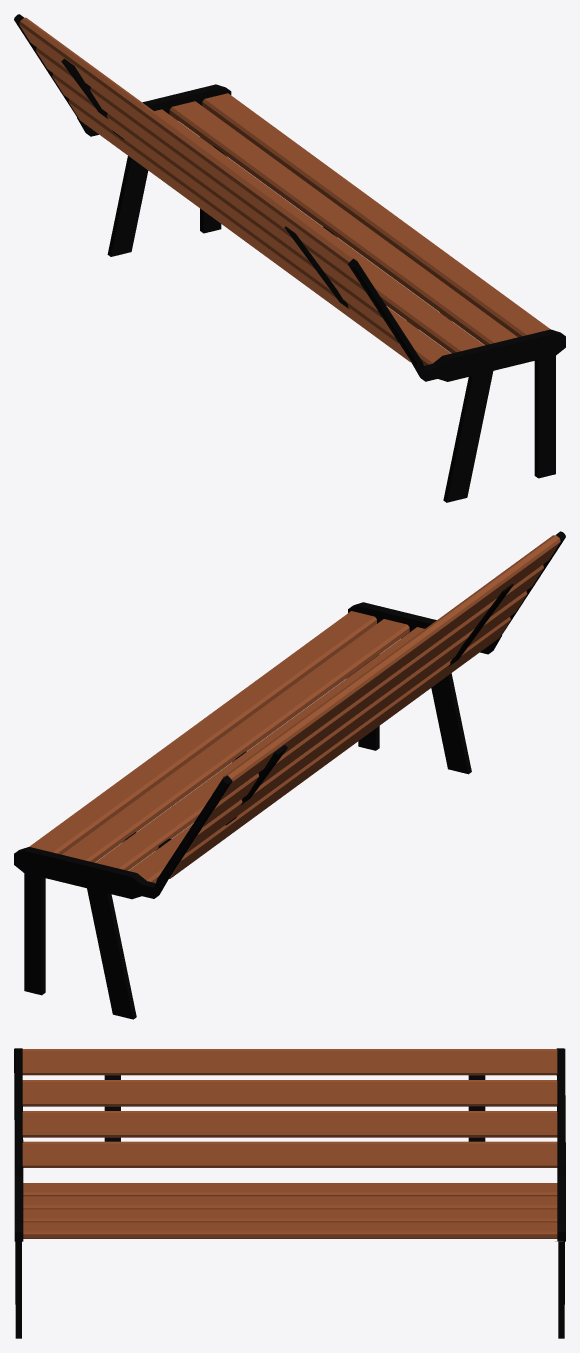
The model's file is Bench.fbx.
3 views of the same model, one above another, from view 1: azimuth 30°, elevation 25°; view 2: azimuth 150°, elevation 25°; view 3: azimuth 270°, elevation 25° (orthographic). The views are drawn at different scales.
Parts seen in each view (by area): view 1: Bench; view 2: Bench; view 3: Bench.
Boxes of the visible parts, x1,y1,x2,y2 form: Bench: [14, 14, 565, 502]; Bench: [14, 531, 565, 1019]; Bench: [14, 1048, 565, 1338].
Size of the model in its own units: 3.76 by 4.37 by 10.27.
